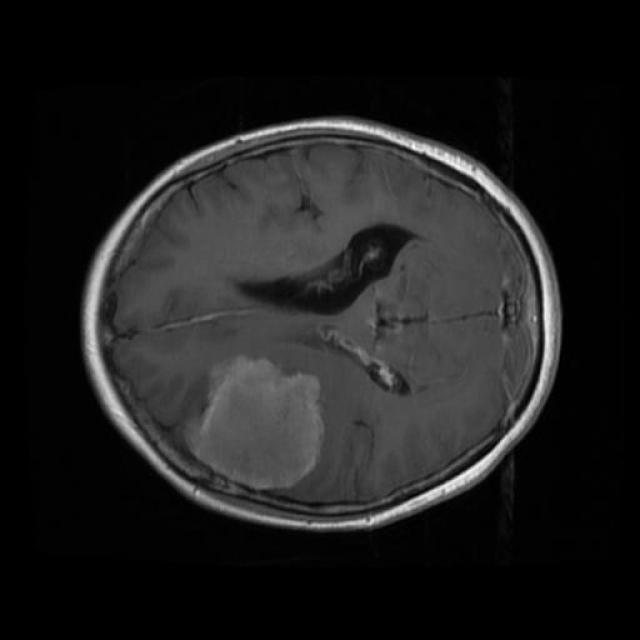Meningioma: (185, 355, 324, 489)
